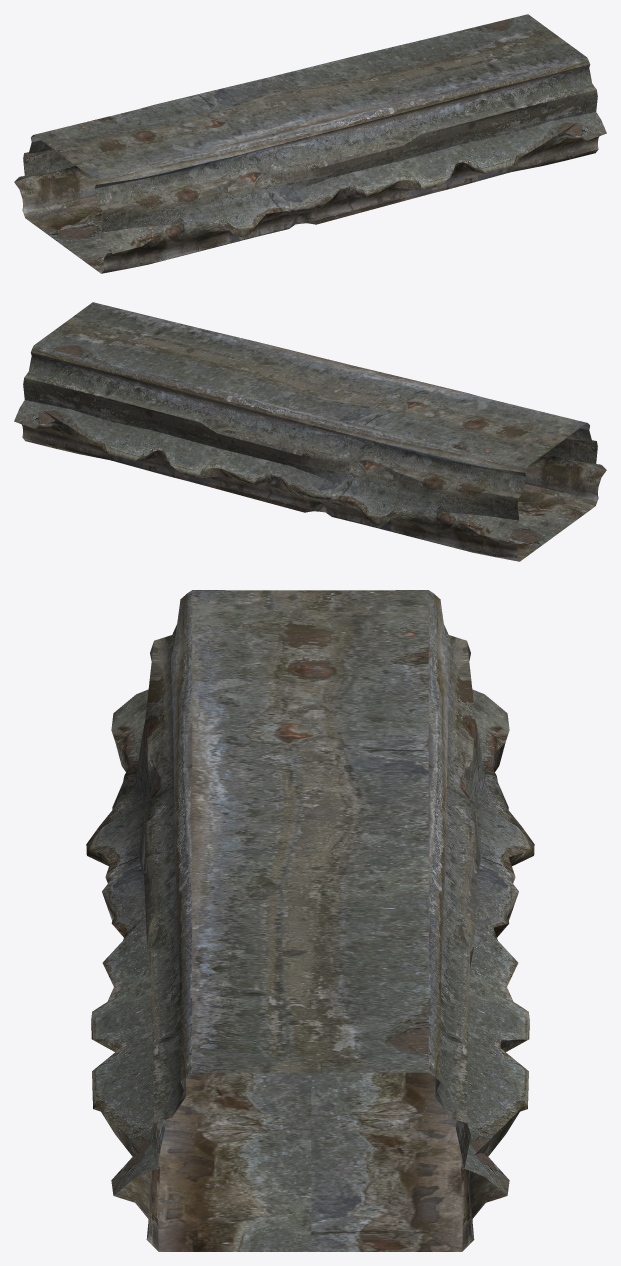
File: SM_ChapelCornice_01_01.fbx
3 renders of one model, top to bottom at view 1: azimuth 30°, elevation 25°; view 2: azimuth 150°, elevation 25°; view 3: azimuth 270°, elevation 25°, orthographic. The views are drawn at different scales.
Parts seen in each view (by area): view 1: sm_ChapelCornice_01_01_LOD0; view 2: sm_ChapelCornice_01_01_LOD0; view 3: sm_ChapelCornice_01_01_LOD0.
Boxes of the visible parts, <box> form: sm_ChapelCornice_01_01_LOD0: <box>14,14,606,273</box>; sm_ChapelCornice_01_01_LOD0: <box>14,302,606,561</box>; sm_ChapelCornice_01_01_LOD0: <box>86,590,534,1251</box>.
Size of the model in its own units: 98.12 by 250 by 43.79.
